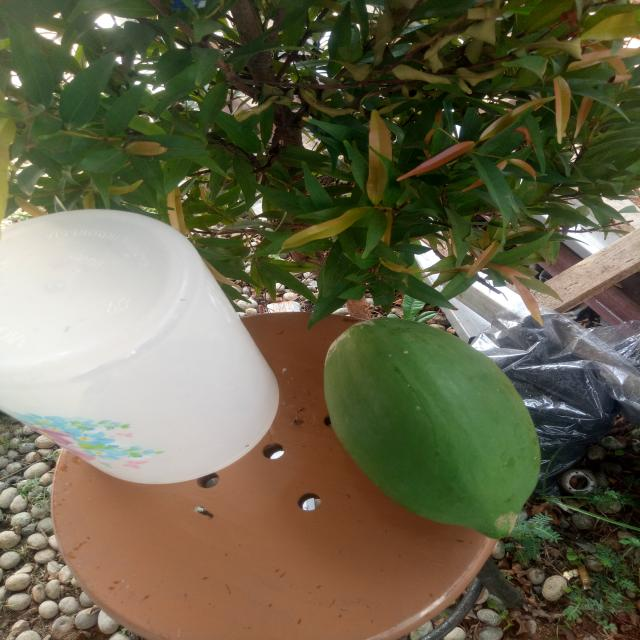Pepaya unrippen: (316, 301, 548, 541)
